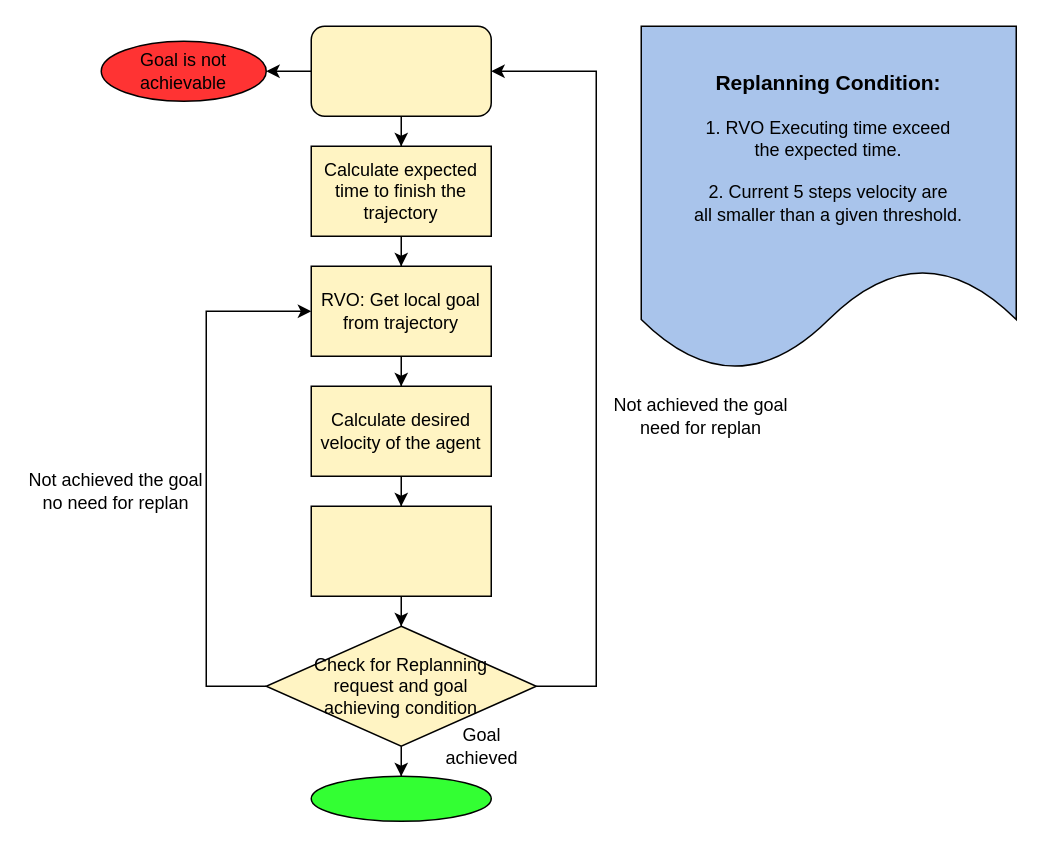
Some shapes in this 1043 by 848 pixel diagram are drawn without their labels. Each missing label, with the centre of its shape:
Done !: (400,798)
Modified RRT Planner: (400,70)
Update the position and local obstacle map: (400,550)
